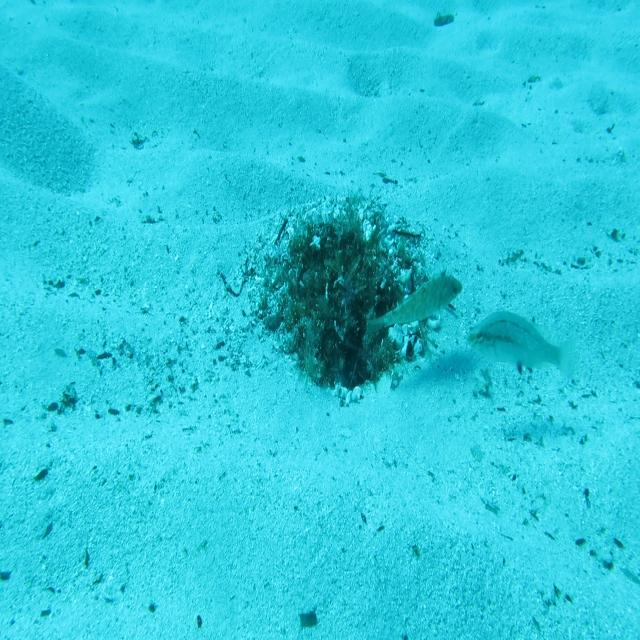ROLL: (364, 264, 463, 339)
core_nest: (314, 232, 360, 277)
female: (463, 304, 580, 389)
nest: (240, 172, 458, 418)
vegetation: (298, 612, 320, 628), (434, 12, 456, 28)
